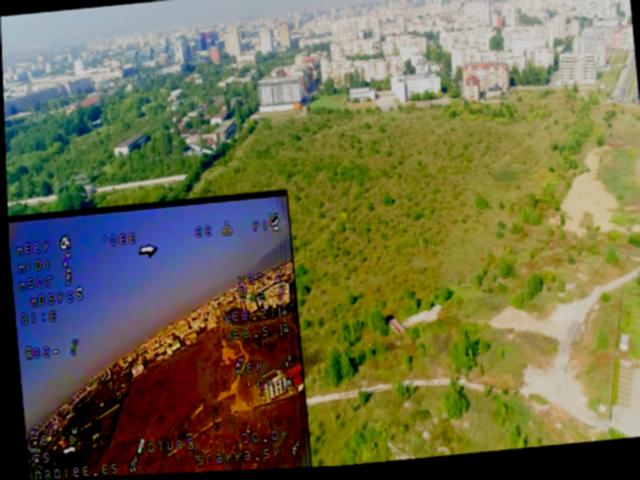plane: (190, 144, 212, 162)
